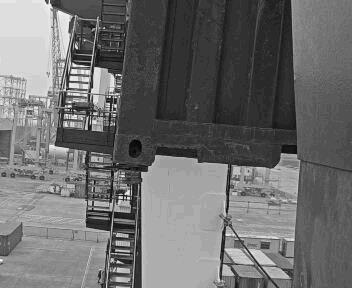twist_lock_1: (155, 139, 174, 157)
